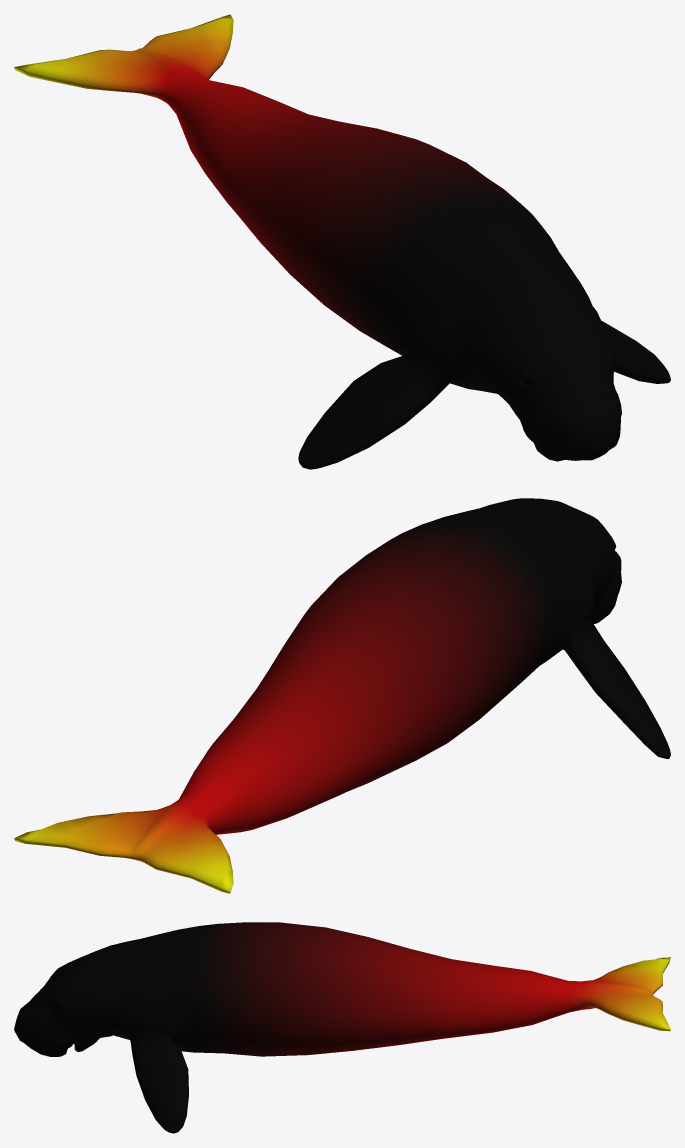
3 renders of one model, top to bottom at view 1: azimuth 30°, elevation 25°; view 2: azimuth 150°, elevation 25°; view 3: azimuth 270°, elevation 25°, orthographic. The views are drawn at different scales.
Visible parts, largest first — view 1: Dongon_Export (internal use only); view 2: Dongon_Export (internal use only); view 3: Dongon_Export (internal use only).
Part boxes in pixels (<box>): Dongon_Export (internal use only): <box>14,14,670,469</box>; Dongon_Export (internal use only): <box>14,498,670,893</box>; Dongon_Export (internal use only): <box>14,922,670,1133</box>.
Size of the model in its own units: 1.2 by 0.6533 by 2.72.
